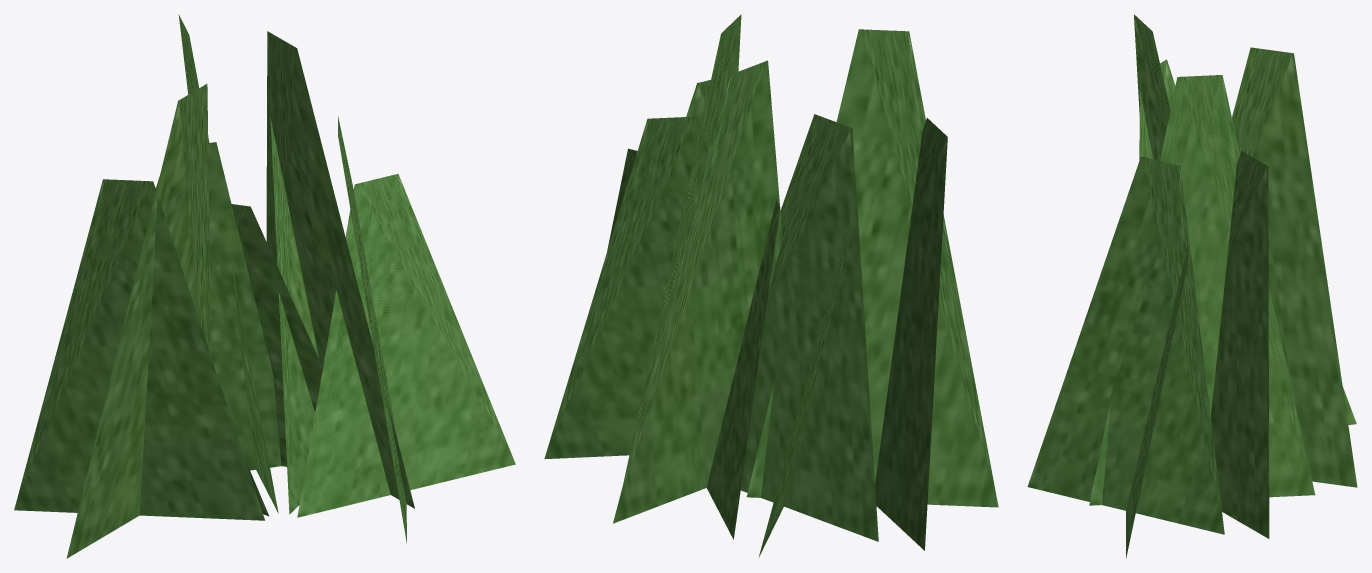
Rendered from grass-cream-far.glb.
The picture shows the model from 3 angles, left to right: view 1: azimuth 30°, elevation 25°; view 2: azimuth 150°, elevation 25°; view 3: azimuth 270°, elevation 25°; orthographic projection. The views are drawn at different scales.
Parts seen in each view (by area): view 1: grass-cream-far; view 2: grass-cream-far; view 3: grass-cream-far.
Part boxes in pixels (x1,y1,x2,y2): grass-cream-far: (14, 14, 515, 558); grass-cream-far: (544, 14, 998, 557); grass-cream-far: (1027, 14, 1357, 558).
Size of the model in its own units: 0.8734 by 0.85 by 0.6383.
1 material, 1 textured.
